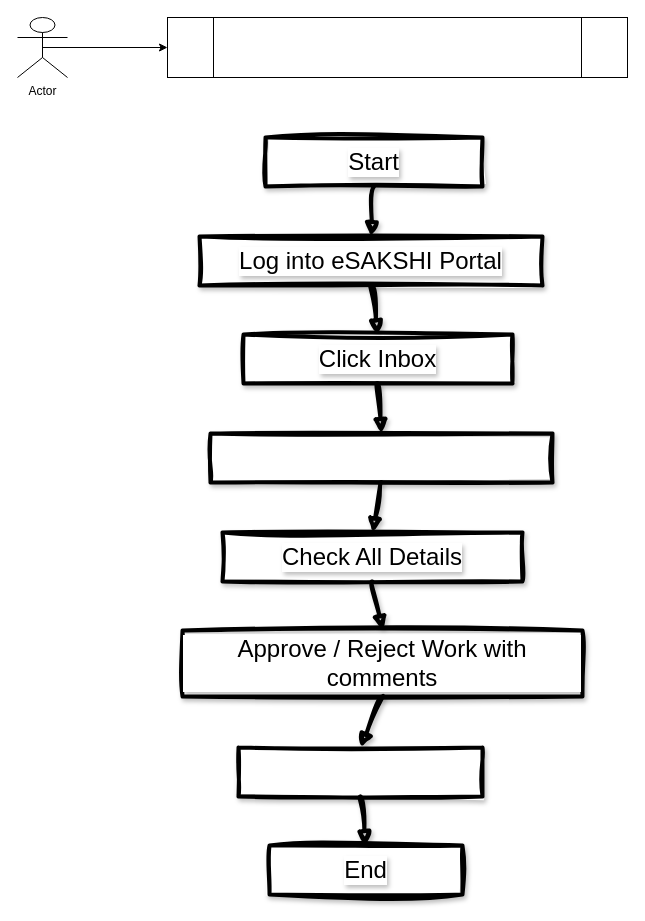
The diagram is 645 pixels wide and 921 high, and some of its shapes have lost their labels. The centre of each missing label's shape, as x and y in pixels:
Click Submit: (361,773)
IA Main - Approver Process: (397,47)
Select Desired Work: (382,459)
